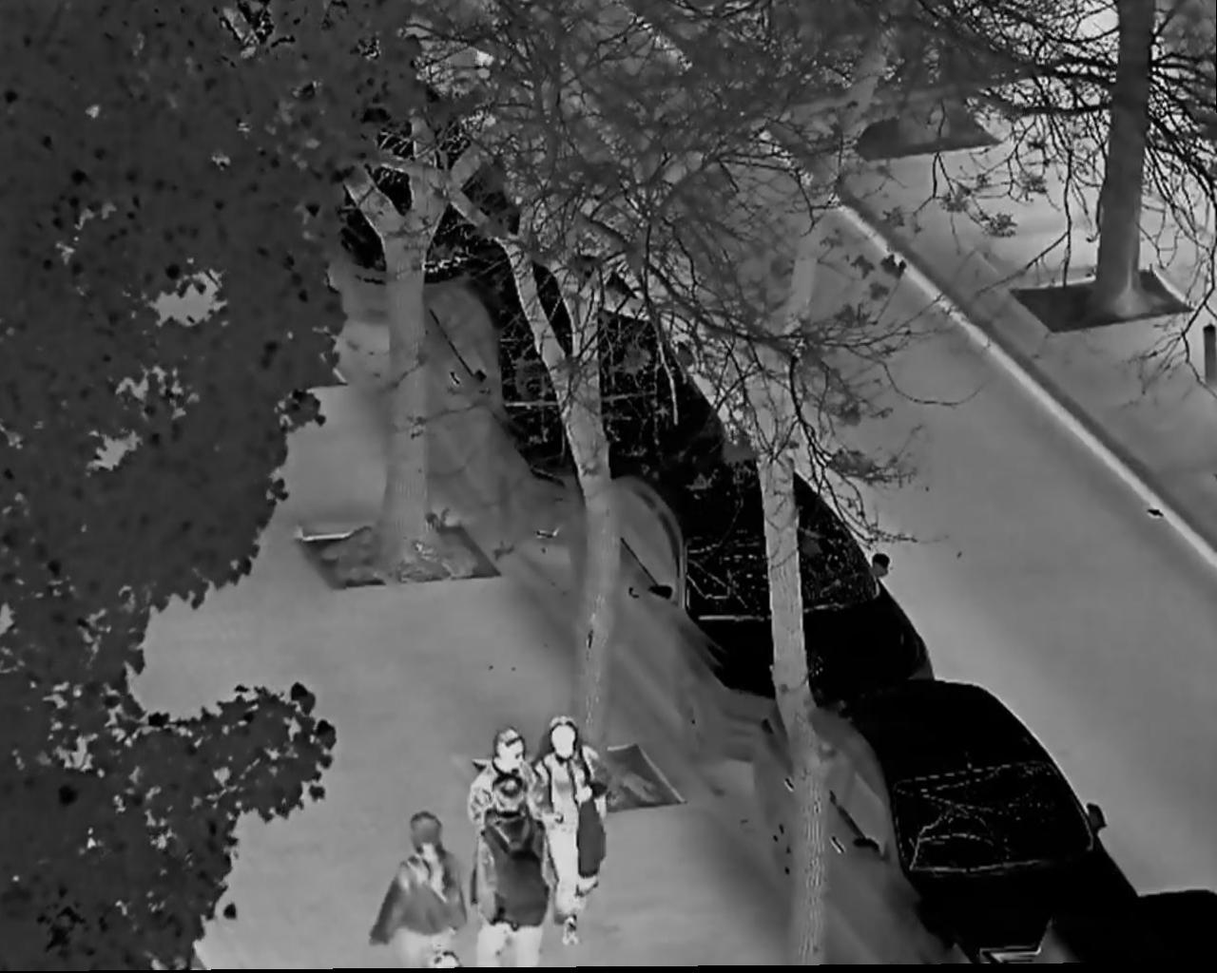person: (468, 728, 551, 943), (538, 717, 609, 950), (473, 778, 552, 968), (376, 812, 466, 973)
